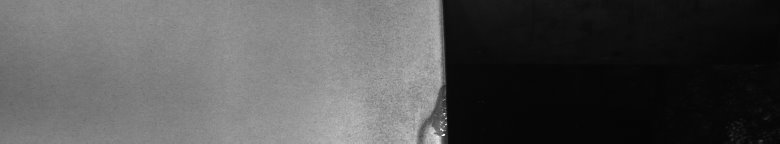hb: (406, 100, 432, 136)
